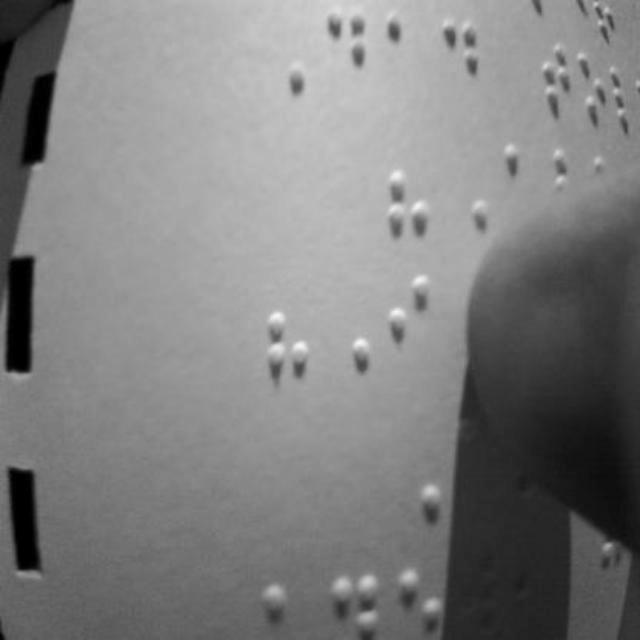braiile: (260, 306, 316, 410), (382, 170, 436, 274)
